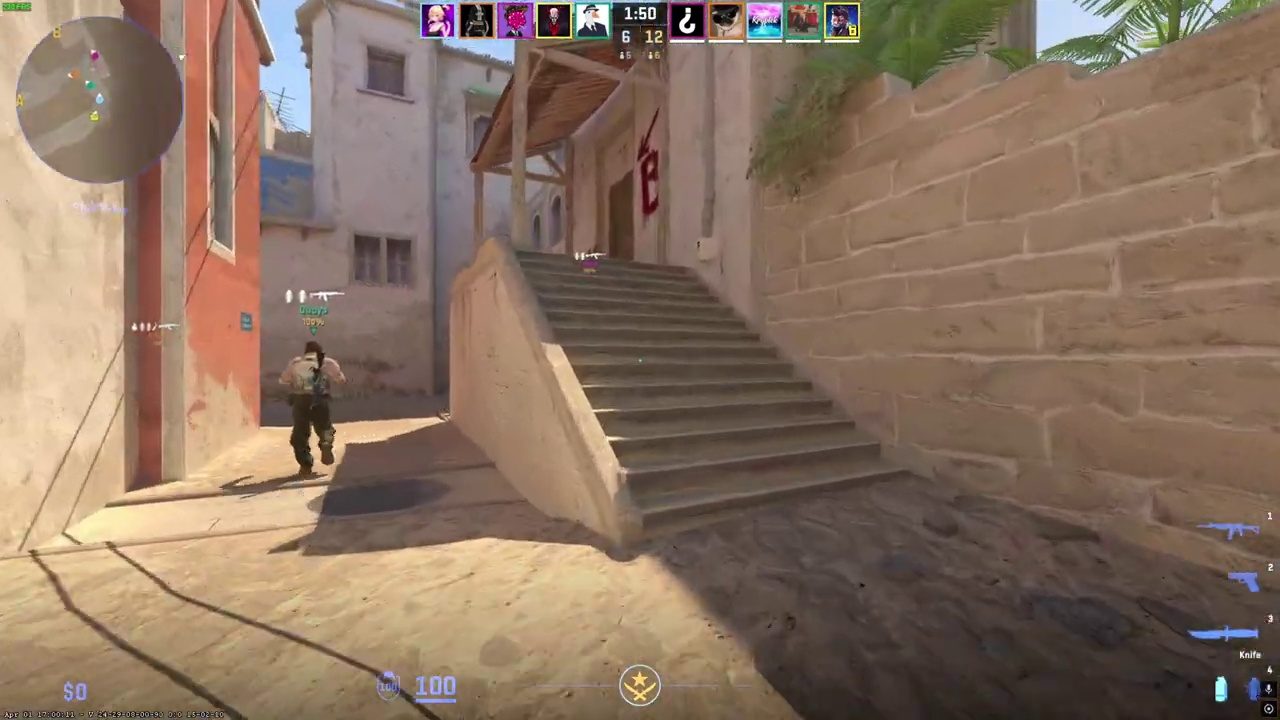Terrorist: (279, 340, 343, 476)
